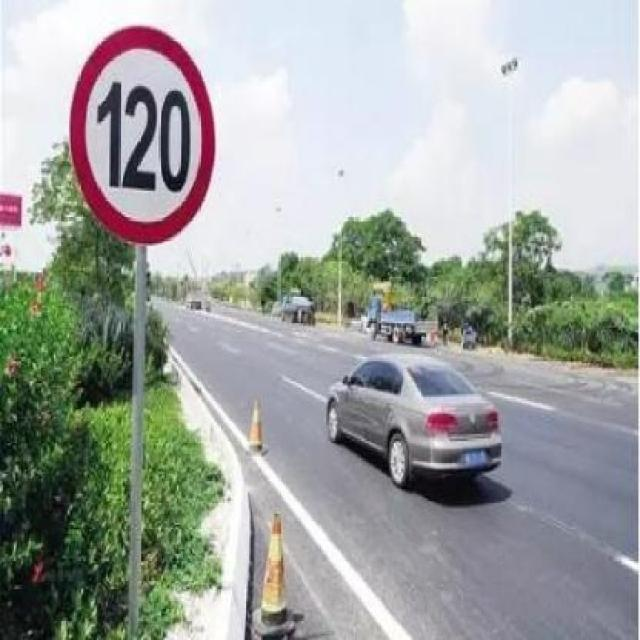forb_speed_over_120: (73, 21, 216, 245)
